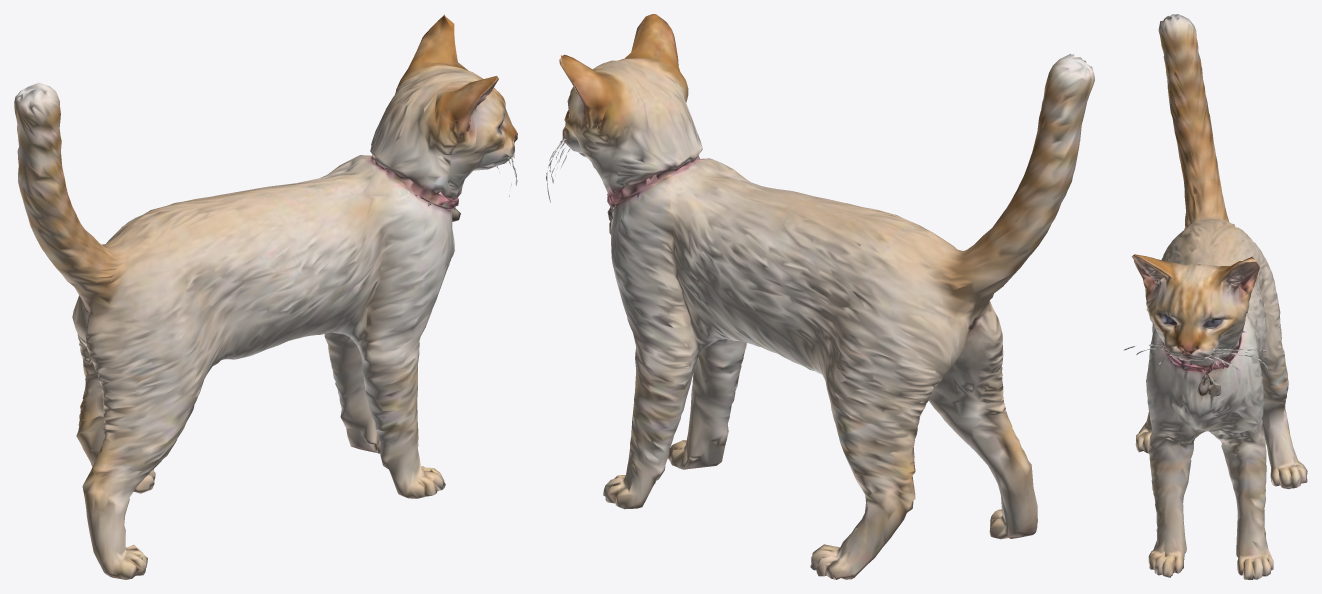
Rendered from PEEPEECAT-lo.glb.
3 views of the same model, side by side, from view 1: azimuth 30°, elevation 25°; view 2: azimuth 150°, elevation 25°; view 3: azimuth 270°, elevation 25° (orthographic). The views are drawn at different scales.
Visible parts, largest first — view 1: tripo_node_67f9d5d1-6ebe-4fbc-8735-96dff5f89d53; view 2: tripo_node_67f9d5d1-6ebe-4fbc-8735-96dff5f89d53; view 3: tripo_node_67f9d5d1-6ebe-4fbc-8735-96dff5f89d53.
Part boxes in pixels (left/top/right/bottom): tripo_node_67f9d5d1-6ebe-4fbc-8735-96dff5f89d53: left=14, top=14, right=517, bottom=579; tripo_node_67f9d5d1-6ebe-4fbc-8735-96dff5f89d53: left=546, top=14, right=1094, bottom=579; tripo_node_67f9d5d1-6ebe-4fbc-8735-96dff5f89d53: left=1123, top=14, right=1307, bottom=579.
Size of the model in its own units: 1.07 by 0.997 by 0.4095.
Materials: 1 (1 with a texture image).
